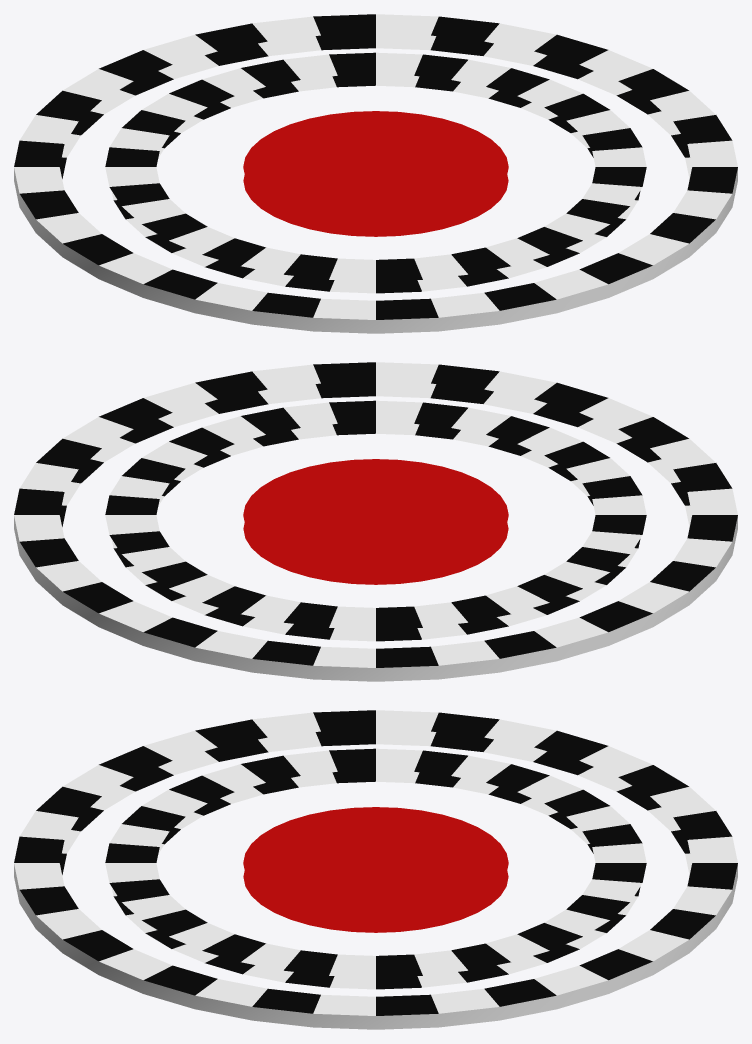
The model's file is zielscheibe.fbx.
3 renders of one model, top to bottom at view 1: azimuth 30°, elevation 25°; view 2: azimuth 150°, elevation 25°; view 3: azimuth 270°, elevation 25°, orthographic.
Parts seen in each view (by area): view 1: Zylinder; view 2: Zylinder; view 3: Zylinder.
Boxes of the visible parts, x1,y1,x2,y2 form: Zylinder: (14,14,737,333); Zylinder: (14,362,737,681); Zylinder: (14,710,737,1029).
Size of the model in its own units: 150 by 3.13 by 150.
